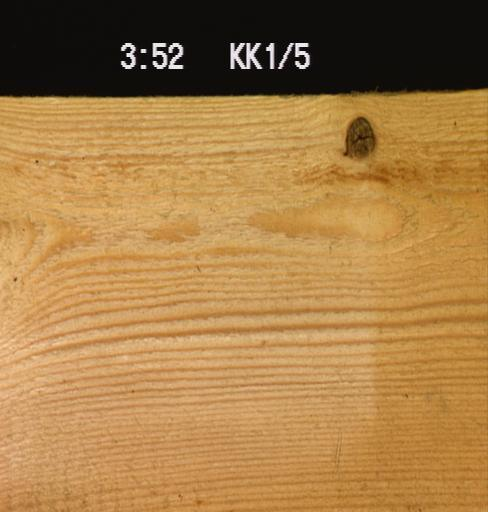dry_knot: (340, 115, 375, 160)
